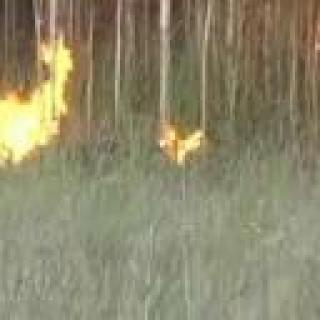fire: (0, 58, 78, 165), (161, 123, 212, 170)
